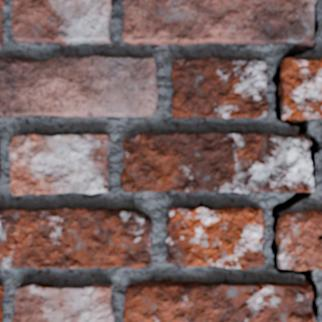brick: (121, 132, 310, 192), (0, 56, 157, 117), (0, 208, 152, 268), (123, 0, 315, 45), (123, 281, 315, 321), (166, 207, 264, 269), (9, 134, 109, 194), (172, 57, 268, 118), (12, 0, 111, 45), (12, 283, 114, 321), (277, 210, 321, 269), (281, 58, 321, 117), (0, 0, 3, 44), (0, 285, 3, 321), (307, 179, 313, 190)
crack: (270, 2, 321, 319), (257, 154, 288, 191), (0, 209, 19, 249), (101, 182, 107, 192)
